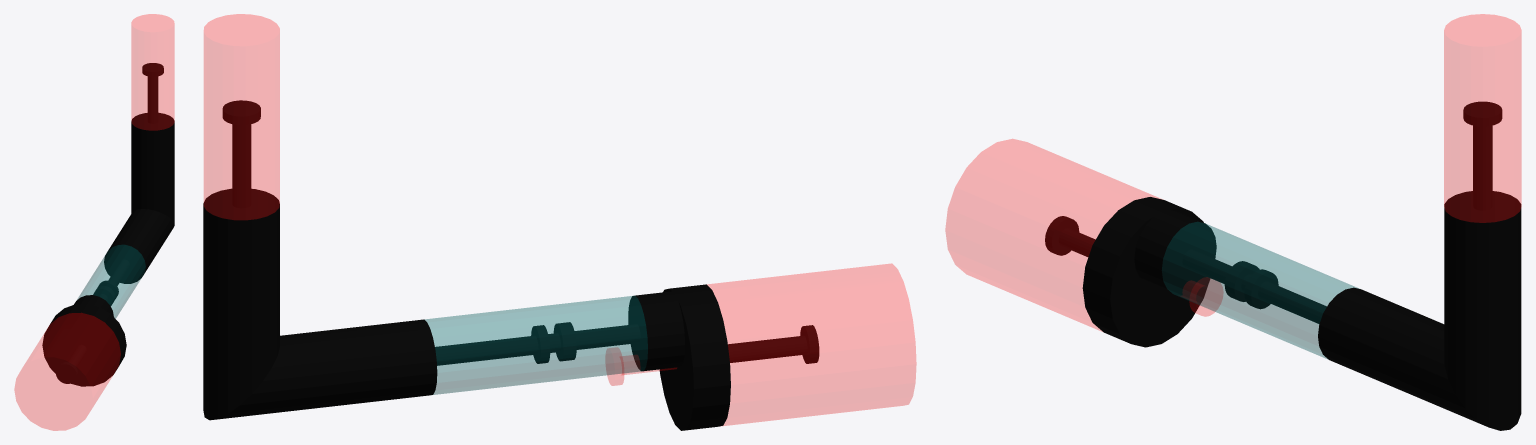
File: LshapedFittingTreeWithReducerAndNegativePipeLength.gltf
3 views of the same model, side by side, from view 1: azimuth 30°, elevation 25°; view 2: azimuth 150°, elevation 25°; view 3: azimuth 270°, elevation 25° (orthographic). The views are drawn at different scales.
Visible parts, largest first — view 1: 009c928f-60d6-4694-a965-c64d464def2a_mesh, aae5f08f-c954-4e63-acaf-a532990a2b06_mesh, 98a595b2-e45c-4f06-af8b-97d48ec3a2fb_mesh, e8016287-5e49-460b-8d4a-d9c7c07fec0d_mesh, 6e58d036-38e8-46b5-9928-877da503be4b_mesh; view 2: aae5f08f-c954-4e63-acaf-a532990a2b06_mesh, 009c928f-60d6-4694-a965-c64d464def2a_mesh, 6e58d036-38e8-46b5-9928-877da503be4b_mesh, e8016287-5e49-460b-8d4a-d9c7c07fec0d_mesh, 98a595b2-e45c-4f06-af8b-97d48ec3a2fb_mesh; view 3: aae5f08f-c954-4e63-acaf-a532990a2b06_mesh, 009c928f-60d6-4694-a965-c64d464def2a_mesh, 98a595b2-e45c-4f06-af8b-97d48ec3a2fb_mesh, e8016287-5e49-460b-8d4a-d9c7c07fec0d_mesh, 6e58d036-38e8-46b5-9928-877da503be4b_mesh.
Boxes of the visible parts, x1,y1,x2,y2 form: 009c928f-60d6-4694-a965-c64d464def2a_mesh: [14, 313, 120, 430]; aae5f08f-c954-4e63-acaf-a532990a2b06_mesh: [93, 63, 174, 305]; 98a595b2-e45c-4f06-af8b-97d48ec3a2fb_mesh: [42, 280, 126, 386]; e8016287-5e49-460b-8d4a-d9c7c07fec0d_mesh: [131, 14, 174, 130]; 6e58d036-38e8-46b5-9928-877da503be4b_mesh: [76, 245, 145, 318]; aae5f08f-c954-4e63-acaf-a532990a2b06_mesh: [203, 100, 576, 420]; 009c928f-60d6-4694-a965-c64d464def2a_mesh: [606, 263, 916, 425]; 6e58d036-38e8-46b5-9928-877da503be4b_mesh: [425, 296, 647, 394]; e8016287-5e49-460b-8d4a-d9c7c07fec0d_mesh: [204, 14, 279, 219]; 98a595b2-e45c-4f06-af8b-97d48ec3a2fb_mesh: [531, 284, 819, 430]; aae5f08f-c954-4e63-acaf-a532990a2b06_mesh: [1224, 101, 1521, 430]; 009c928f-60d6-4694-a965-c64d464def2a_mesh: [945, 139, 1222, 331]; 98a595b2-e45c-4f06-af8b-97d48ec3a2fb_mesh: [1045, 197, 1278, 347]; e8016287-5e49-460b-8d4a-d9c7c07fec0d_mesh: [1444, 14, 1521, 222]; 6e58d036-38e8-46b5-9928-877da503be4b_mesh: [1162, 222, 1359, 358].
Size of the model in its own units: 0.593 by 0.51 by 0.593.
